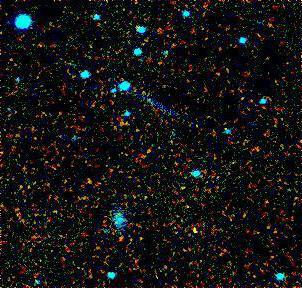star: (132, 138, 162, 168)
